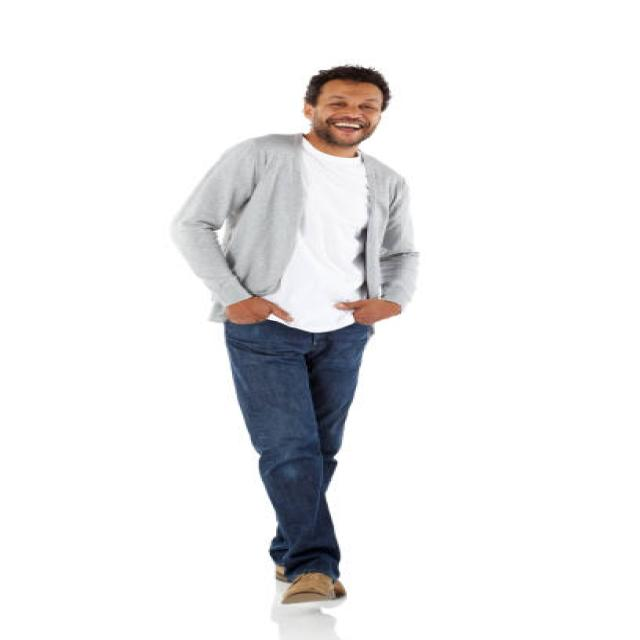Edited images: (158, 57, 444, 620)
